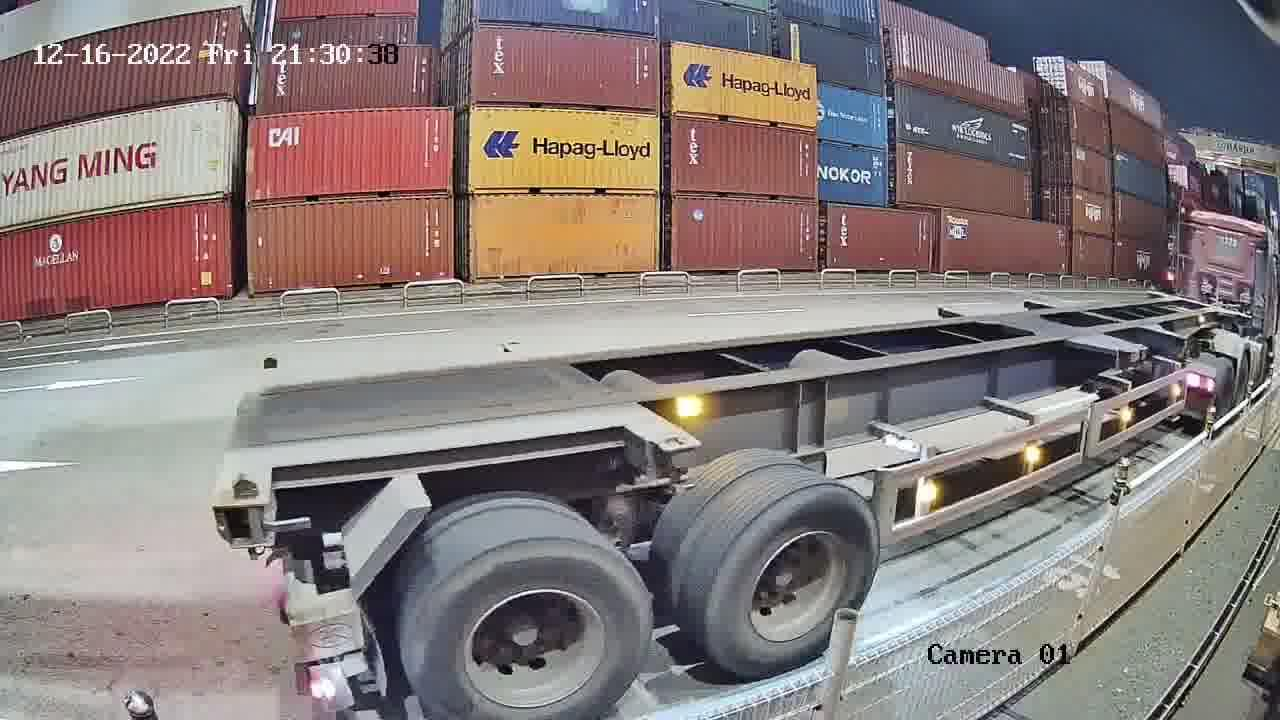Cone: (220, 471, 275, 546)
Tire: (410, 543, 653, 719), (705, 485, 882, 680)
